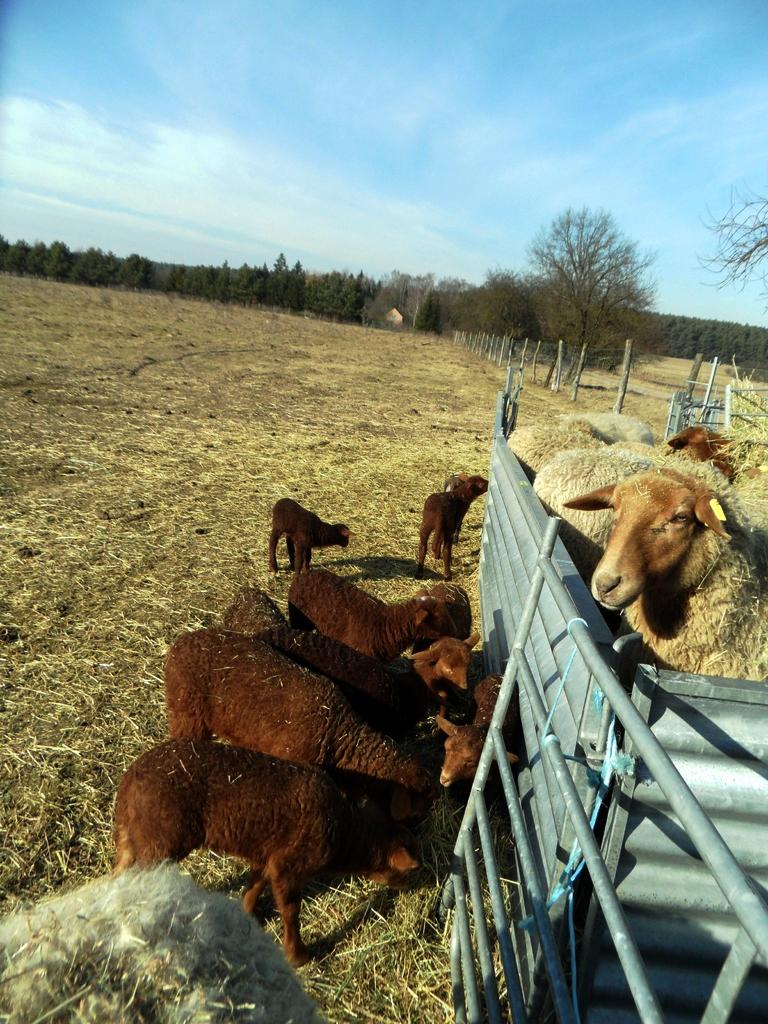Sheep: (110, 730, 429, 961), (157, 624, 434, 827), (558, 472, 768, 685), (543, 440, 768, 583), (251, 630, 486, 727), (274, 569, 480, 669), (506, 406, 730, 471), (430, 674, 521, 806), (412, 461, 493, 581), (269, 497, 356, 580)
